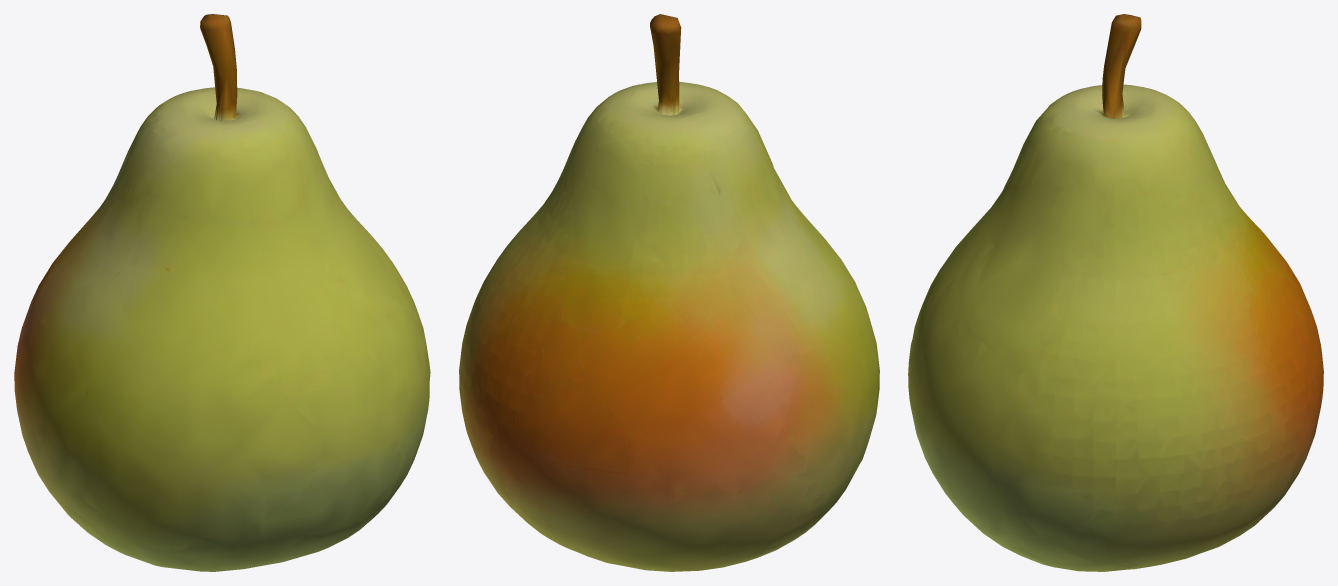
Rendered from pear.glb.
The picture shows the model from 3 angles, left to right: view 1: azimuth 30°, elevation 25°; view 2: azimuth 150°, elevation 25°; view 3: azimuth 270°, elevation 25°; orthographic projection.
Parts seen in each view (by area): view 1: material; view 2: material; view 3: material.
Part boxes in pixels (x1,y1,x2,y2): material: (14, 14, 430, 571); material: (459, 14, 879, 571); material: (908, 14, 1323, 571).
Bounding box in the file's own units: 0.8369 × 1.14 × 0.8339.
Materials: 1 (1 with a texture image).
